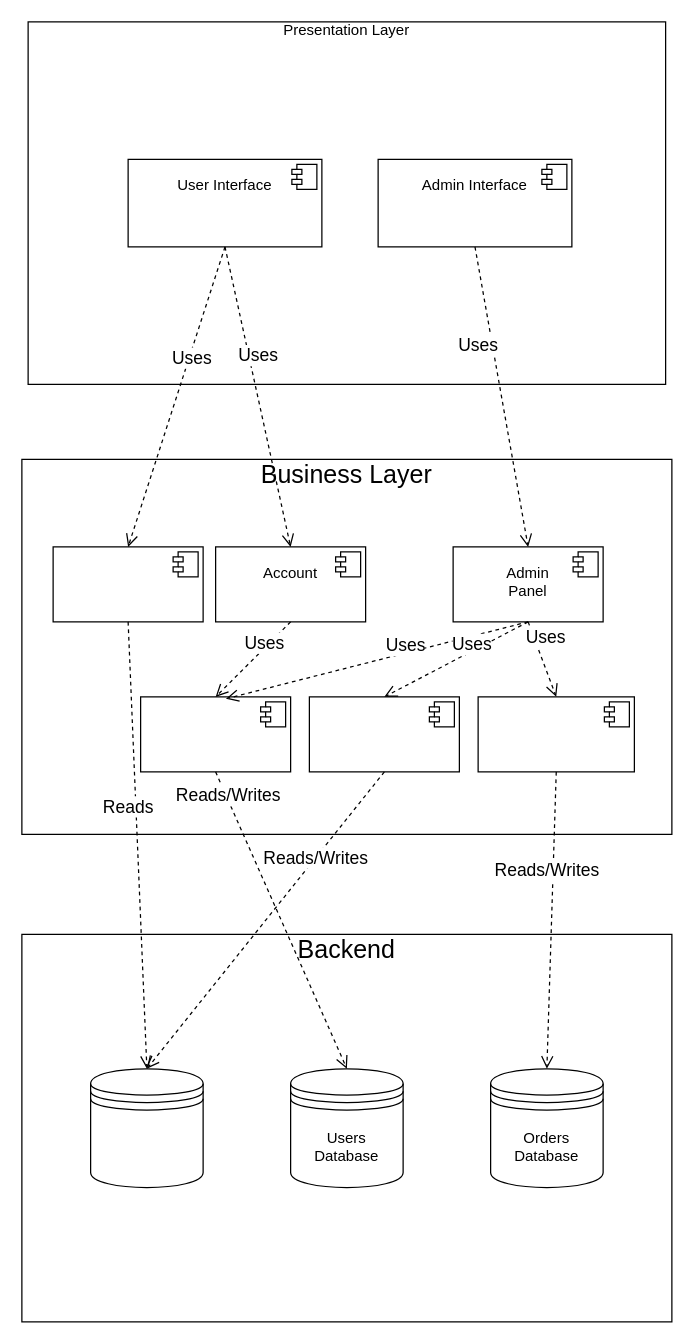
The diagram is 694 pixels wide and 1344 high, and some of its shapes have lost their labels. The centre of each missing label's shape, as x and y in pixels:
"Catalog" goes at (127,584).
"Listing Managemen t" goes at (383,734).
"Listings Database" goes at (146,1128).
"Order Management" goes at (555,734).
"User Managemen t" goes at (215,734).
